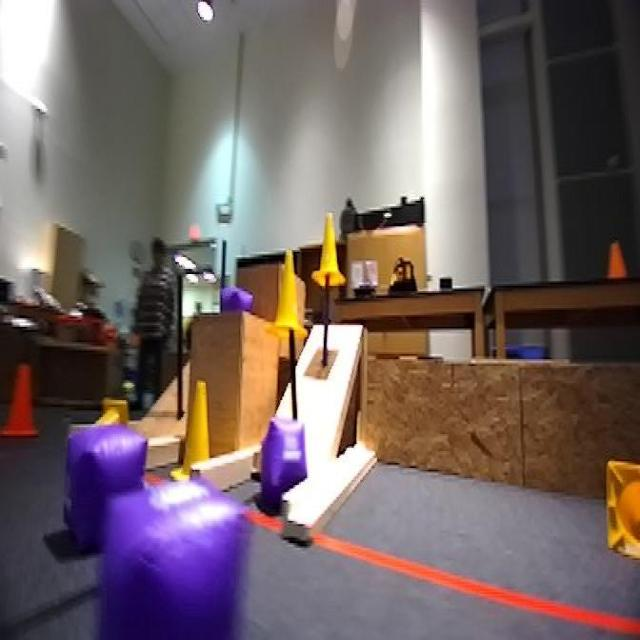frc_cone: (169, 371, 223, 494), (605, 457, 640, 563), (270, 243, 306, 339), (85, 400, 128, 446), (318, 218, 341, 291)
frc_cube: (95, 480, 264, 640), (58, 429, 132, 548), (255, 418, 307, 511), (213, 288, 243, 316)
